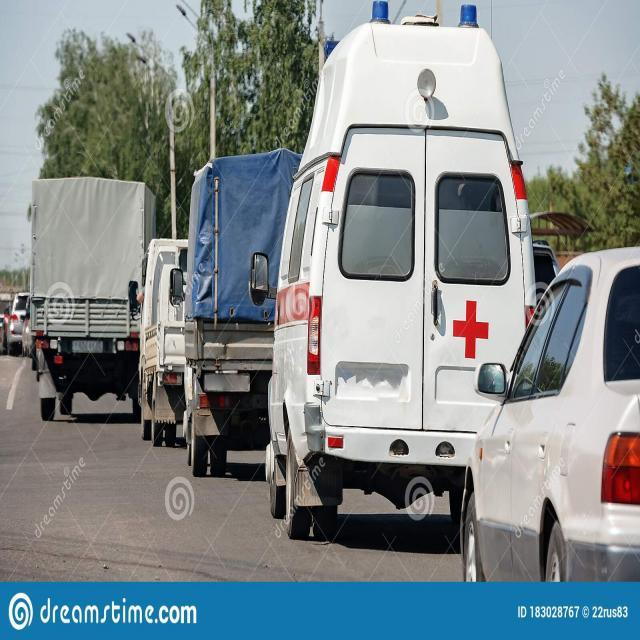emergency-vehicle: (256, 1, 538, 548)
